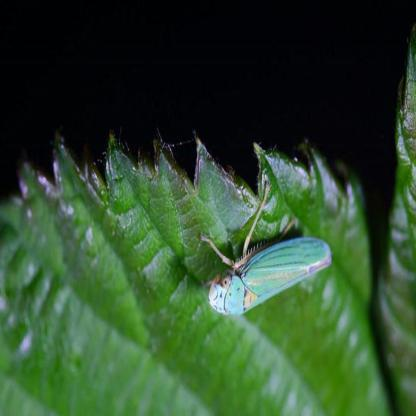green-leafhopper: (209, 214, 334, 320)
